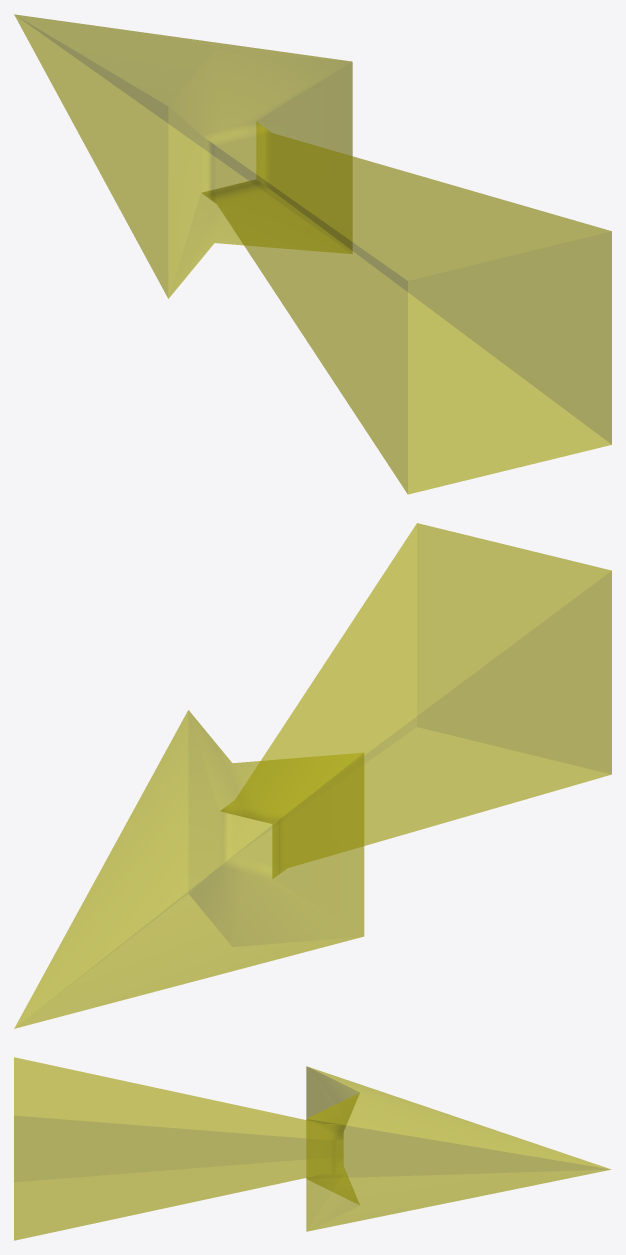
The model's file is arrow.fbx.
3 views of the same model, one above another, from view 1: azimuth 30°, elevation 25°; view 2: azimuth 150°, elevation 25°; view 3: azimuth 270°, elevation 25° (orthographic). The views are drawn at different scales.
Visible parts, largest first — view 1: pCube1; view 2: pCube1; view 3: pCube1.
Boxes of the visible parts, bbox=[...] form: pCube1: bbox=[14, 14, 611, 494]; pCube1: bbox=[14, 523, 611, 1028]; pCube1: bbox=[14, 1057, 610, 1240].
Size of the model in its own units: 4.38 by 4.38 by 18.94.
